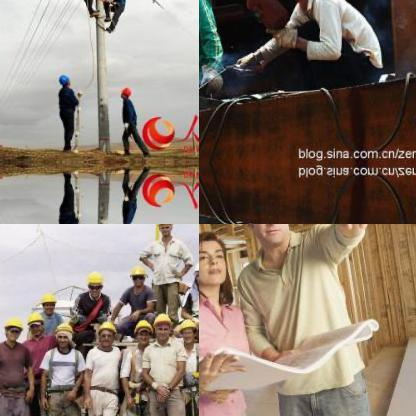Helmet: (234, 224, 294, 258), (52, 319, 74, 351), (0, 317, 23, 344), (152, 311, 172, 341), (132, 316, 152, 346), (178, 315, 198, 344), (96, 320, 116, 347), (85, 268, 103, 298), (24, 310, 44, 332), (130, 264, 146, 290), (40, 290, 56, 315), (154, 224, 175, 240), (56, 70, 70, 86), (191, 256, 198, 286), (118, 84, 132, 98)
